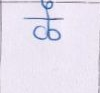ai_matra: (39, 1, 54, 18)
